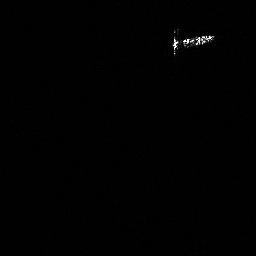ship: (170, 29, 216, 57)
